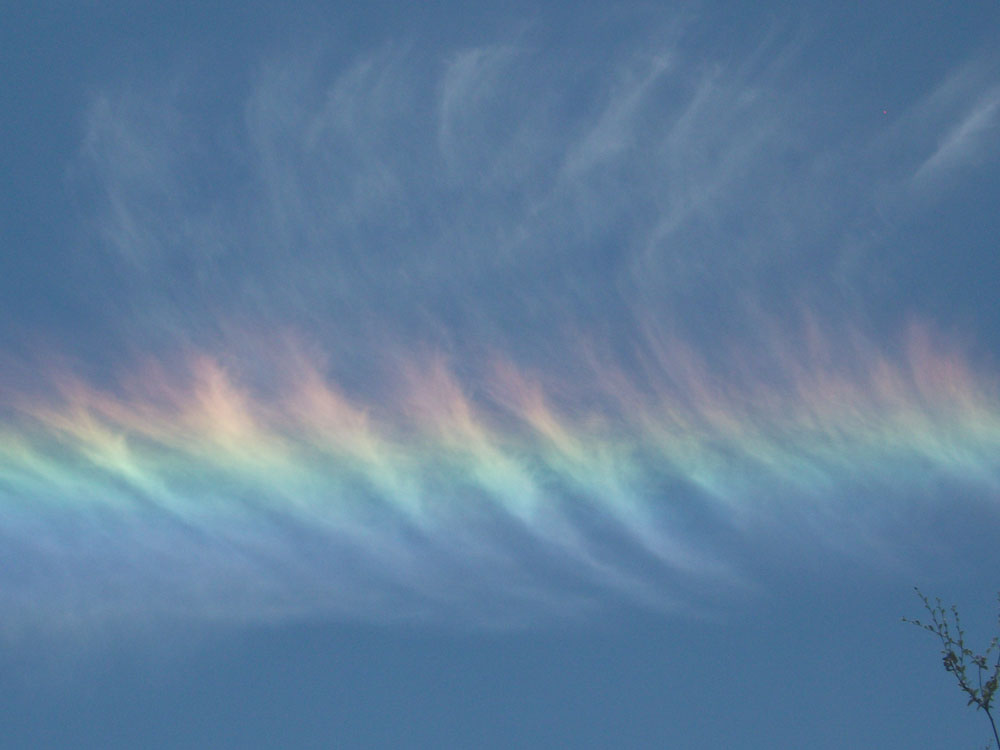Cirrus: (16, 283, 1000, 642)
